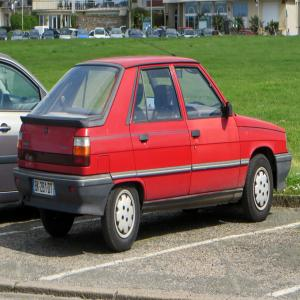Vehicle-registration-plate: (33, 181, 57, 199)
